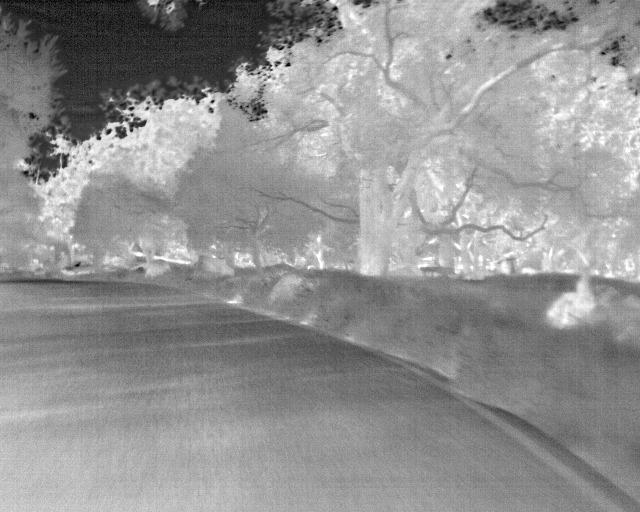car: (58, 259, 93, 278)
